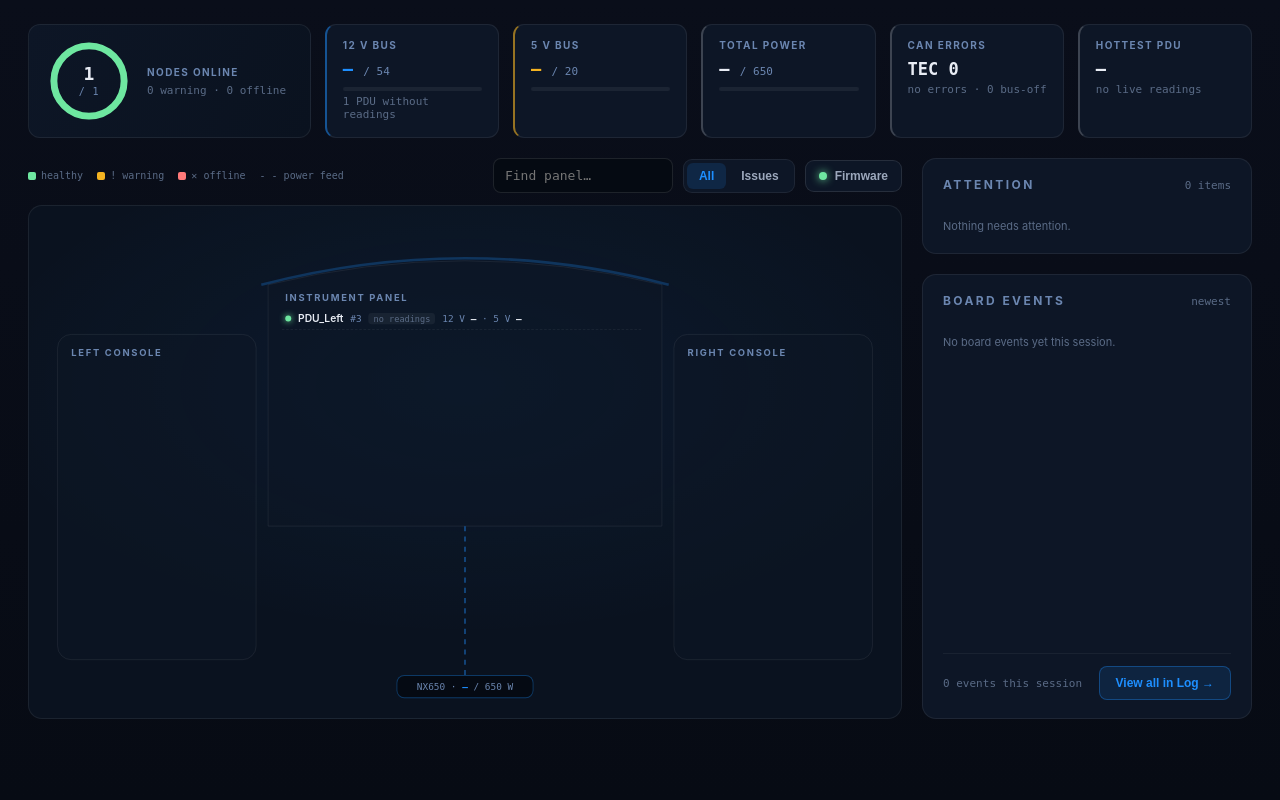
it: T41 the Firmware button and sheet (#173) › every board on the release
Click the button "Firmware": (853, 176) x1=805 y1=160 x2=902 y2=192
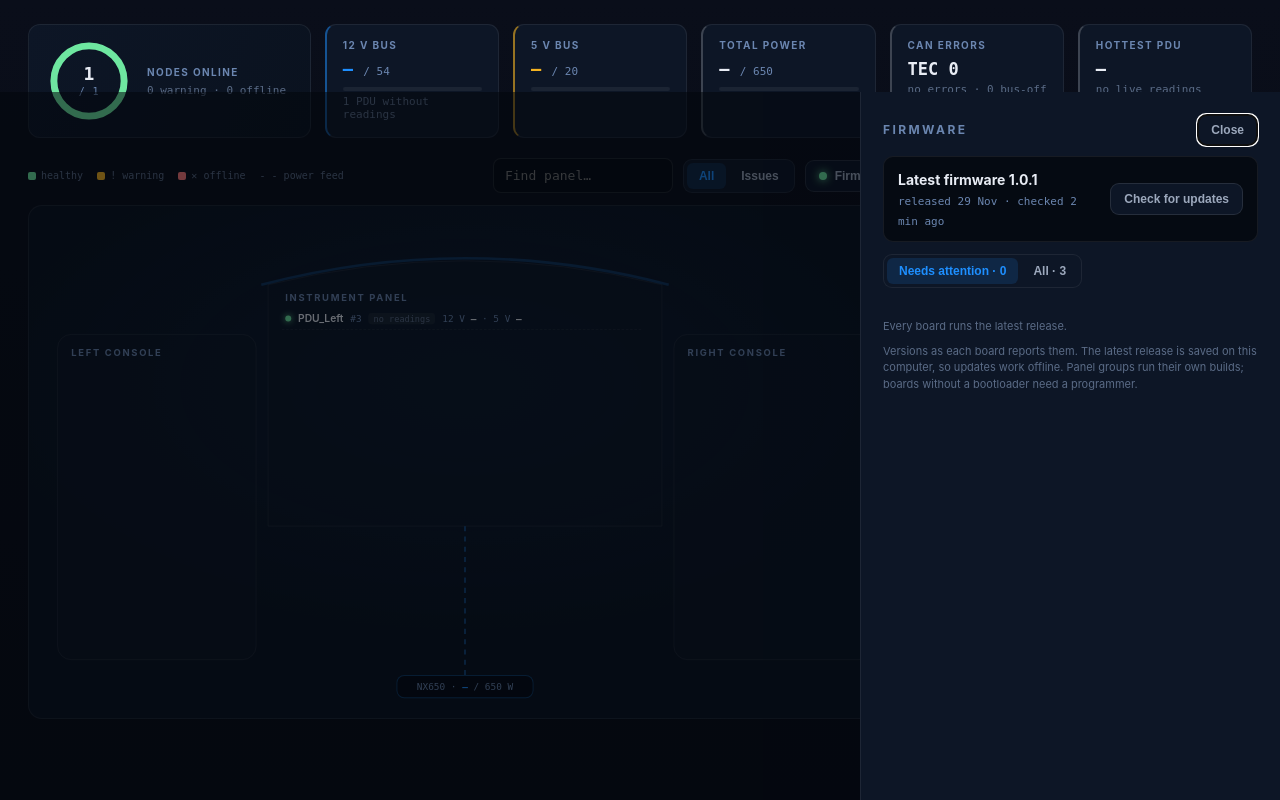
Now the text "Every board runs the latest release." is shown, box x1=883 y1=319 x2=1067 y2=333
